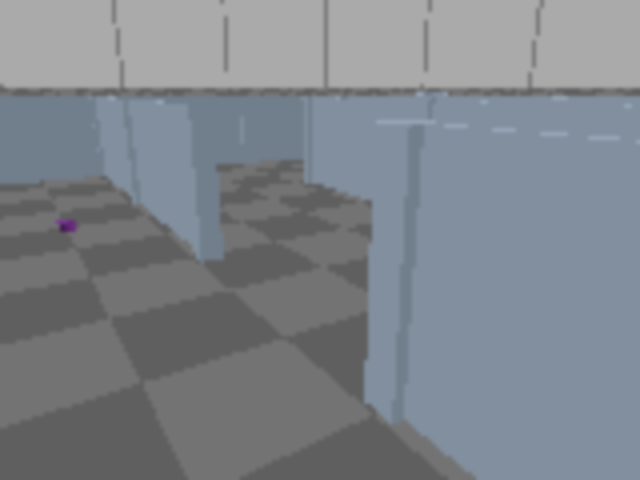puck: (58, 219, 76, 233)
